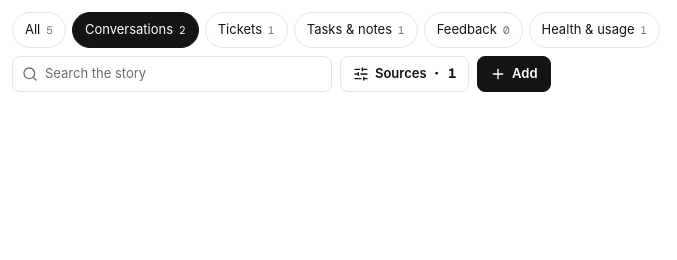
Scenario: StoryToolbar (spec §1.6) › offers the chosen filter's exact sources that have data, and resets them
Click the button "Sources · 1" at {"x": 404, "y": 74}, box [340,56,469,92]
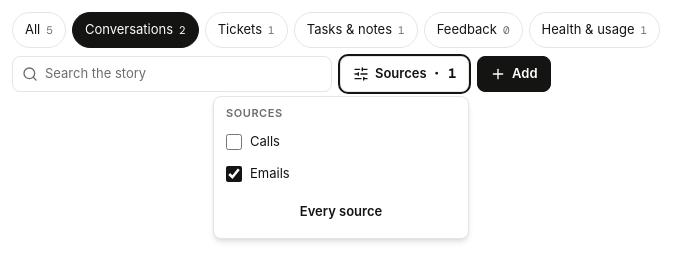
Check: the checkbox labelled "Emails" is checked, box [226,166,242,182]
Click the checkbox labelled "Calls" at {"x": 234, "y": 142}, box [226,134,242,150]
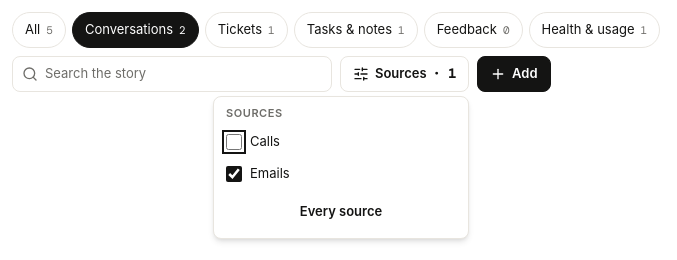
Click the checkbox labelled "Emails" at {"x": 234, "y": 174}, box [226,166,242,182]
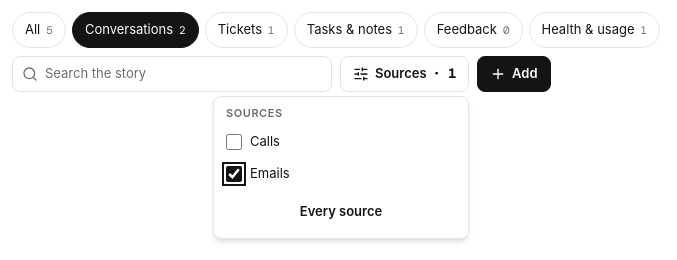
Click the button "Every source" at {"x": 341, "y": 212}, box [222,194,460,230]
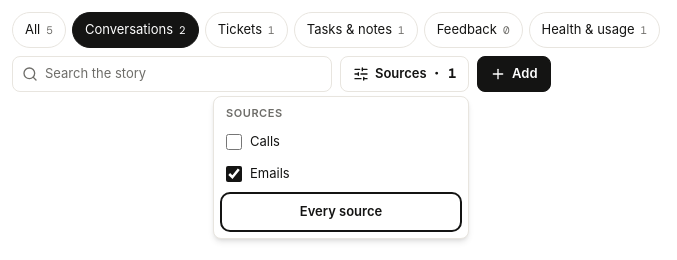
Press Escape
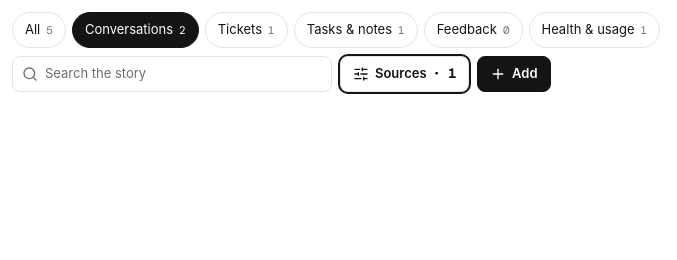
Check: the checkbox is gone
